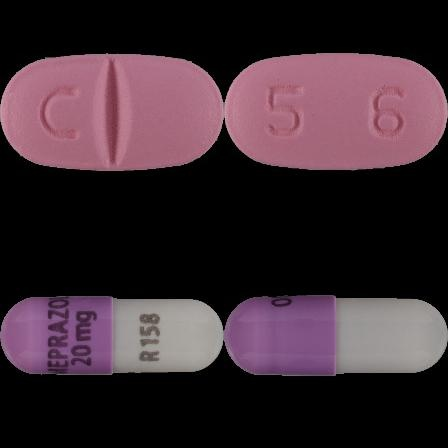58118-0155: (0, 0, 224, 224)
